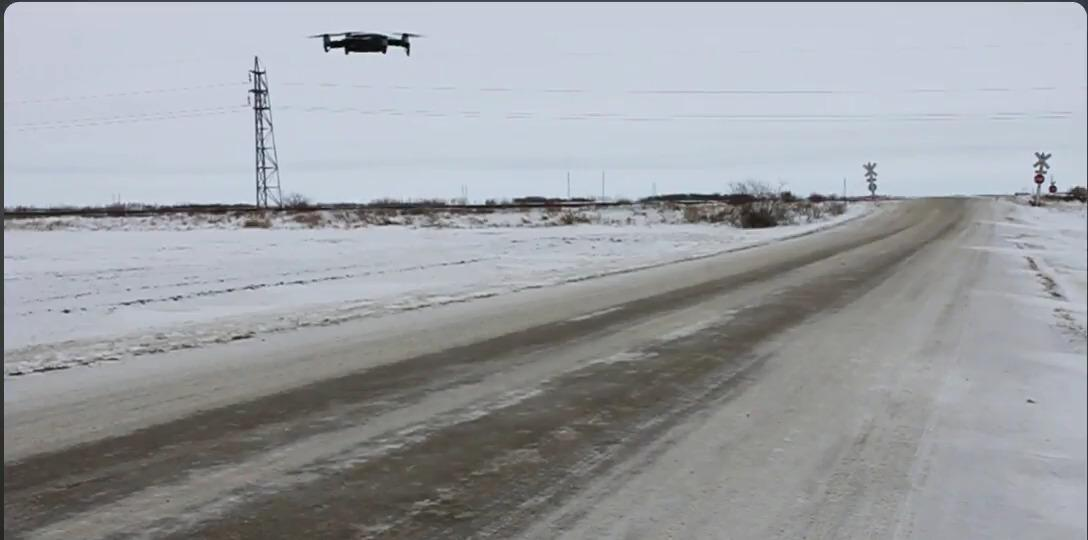dr: (308, 24, 426, 57)
